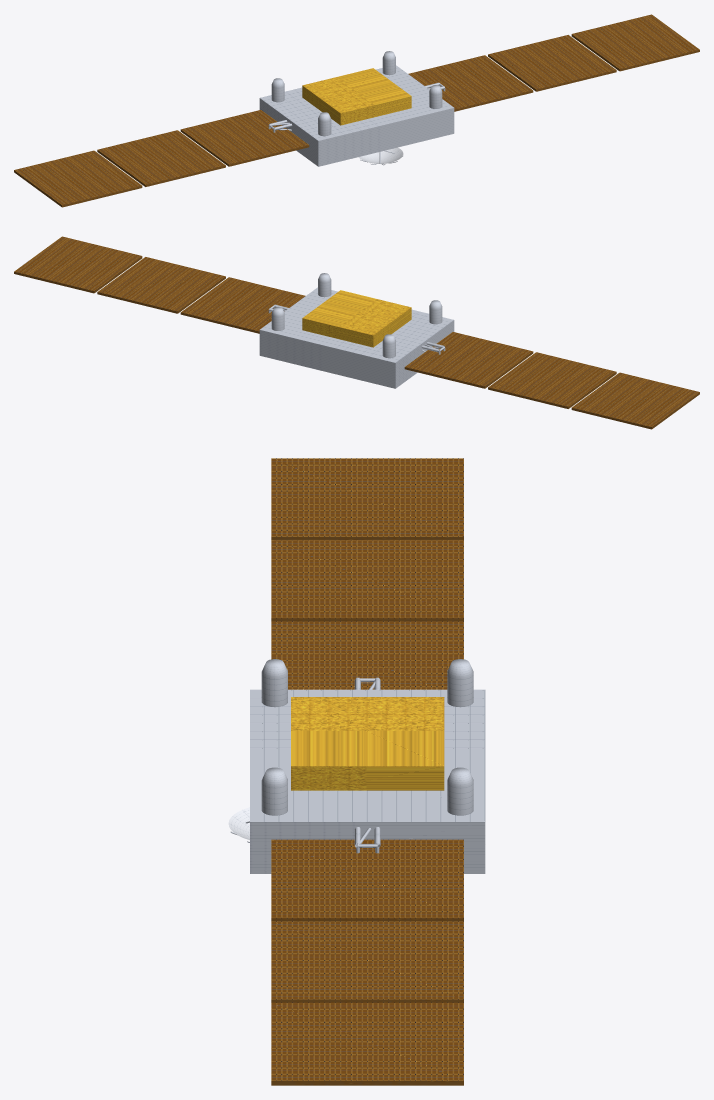
Rendered from sc_qianfan_kuiper.glb.
3 renders of one model, top to bottom at view 1: azimuth 30°, elevation 25°; view 2: azimuth 150°, elevation 25°; view 3: azimuth 270°, elevation 25°, orthographic. The views are drawn at different scales.
Visible parts, largest first — view 1: qk_solar_wings, qk_hex_chassis, qk_gold_avionics, qk_ka_gateway_dish; view 2: qk_solar_wings, qk_hex_chassis, qk_gold_avionics; view 3: qk_solar_wings, qk_hex_chassis, qk_gold_avionics.
Boxes of the visible parts, box(x1,y1,x2,y2) form: qk_solar_wings: box(14, 14, 699, 207); qk_hex_chassis: box(259, 51, 454, 166); qk_gold_avionics: box(302, 68, 411, 125); qk_ka_gateway_dish: box(358, 147, 403, 163); qk_solar_wings: box(14, 236, 699, 429); qk_hex_chassis: box(259, 273, 454, 388); qk_gold_avionics: box(302, 290, 411, 347); qk_solar_wings: box(271, 458, 463, 1085); qk_hex_chassis: box(230, 659, 485, 873); qk_gold_avionics: box(291, 697, 444, 790).
Bounding box in the file's own units: 1.98 × 0.1816 × 0.345.
Materials: 5 (5 with a texture image).
